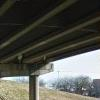Bridge: (5, 3, 96, 88)
